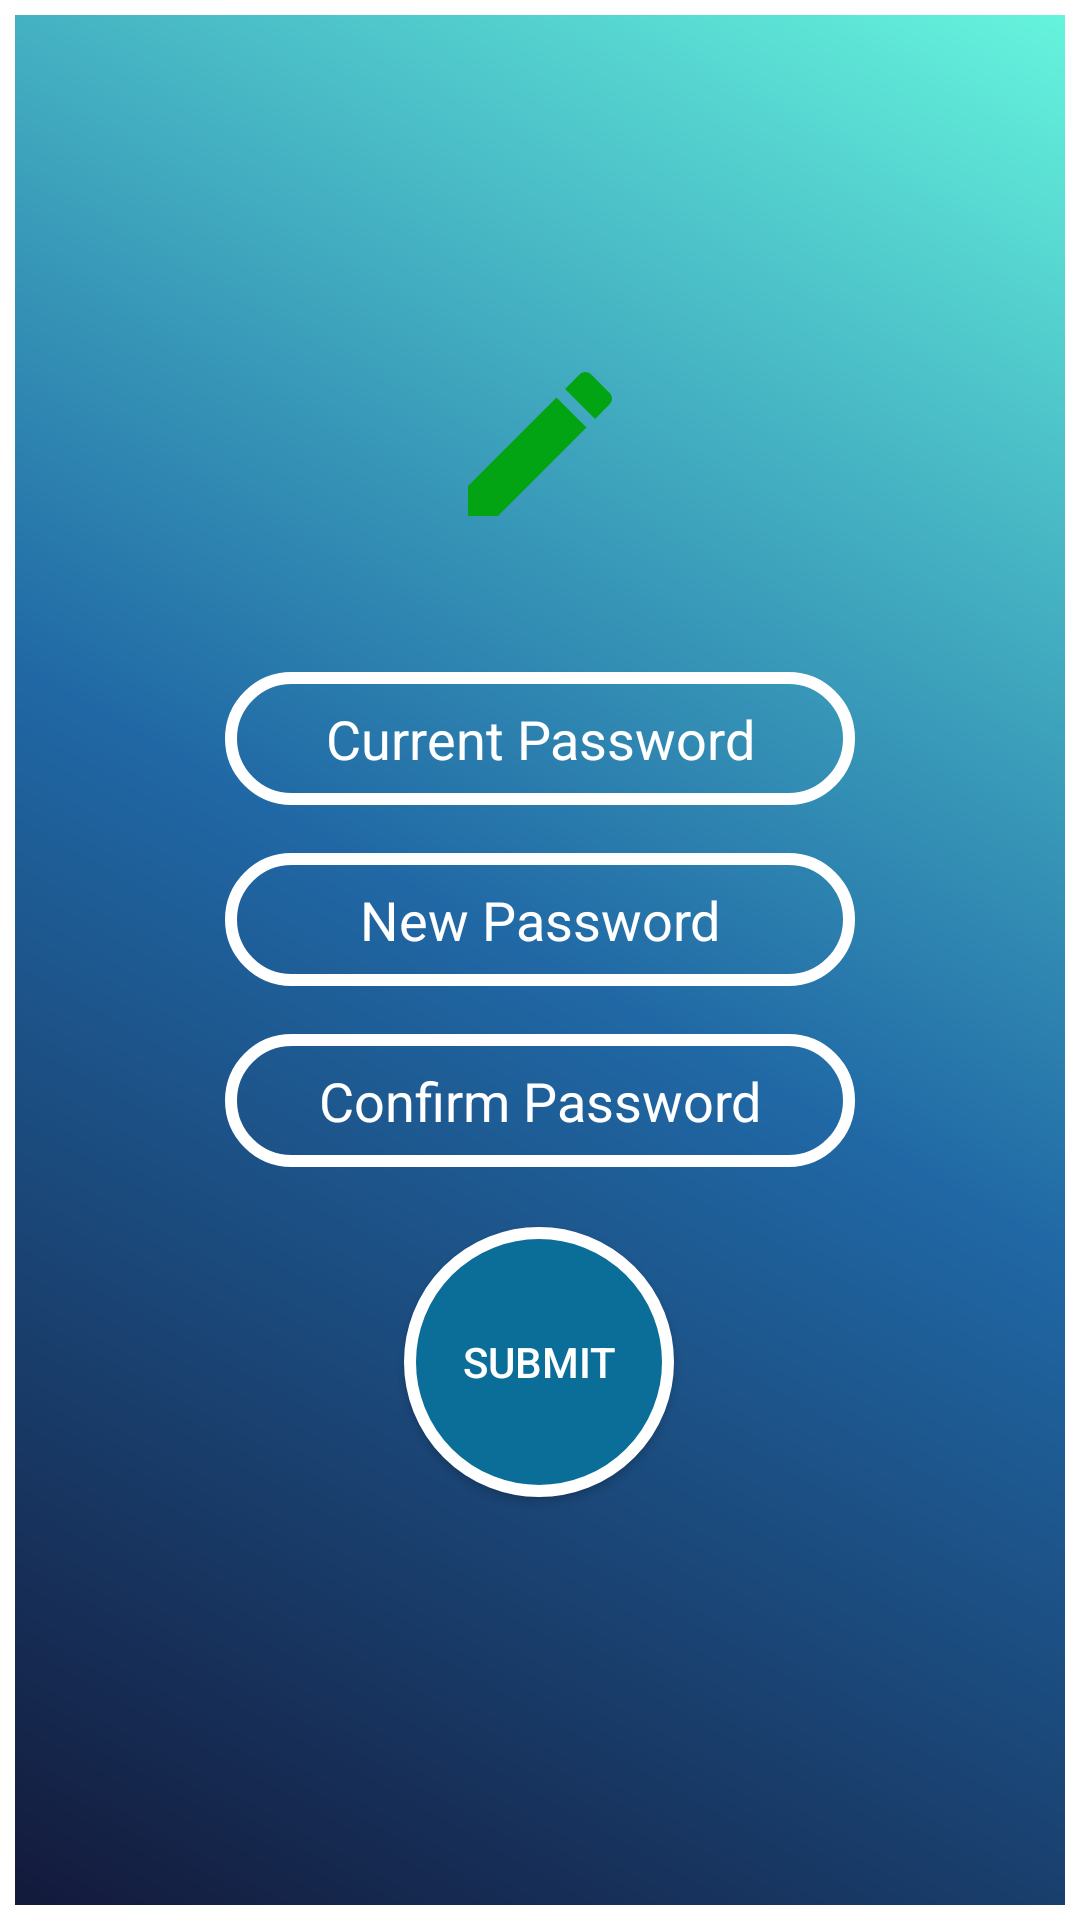

Where icons sit on this 1080 x 1920 app screen, as (x1, y1, x2, y2):
pen: (468, 372, 612, 516)
